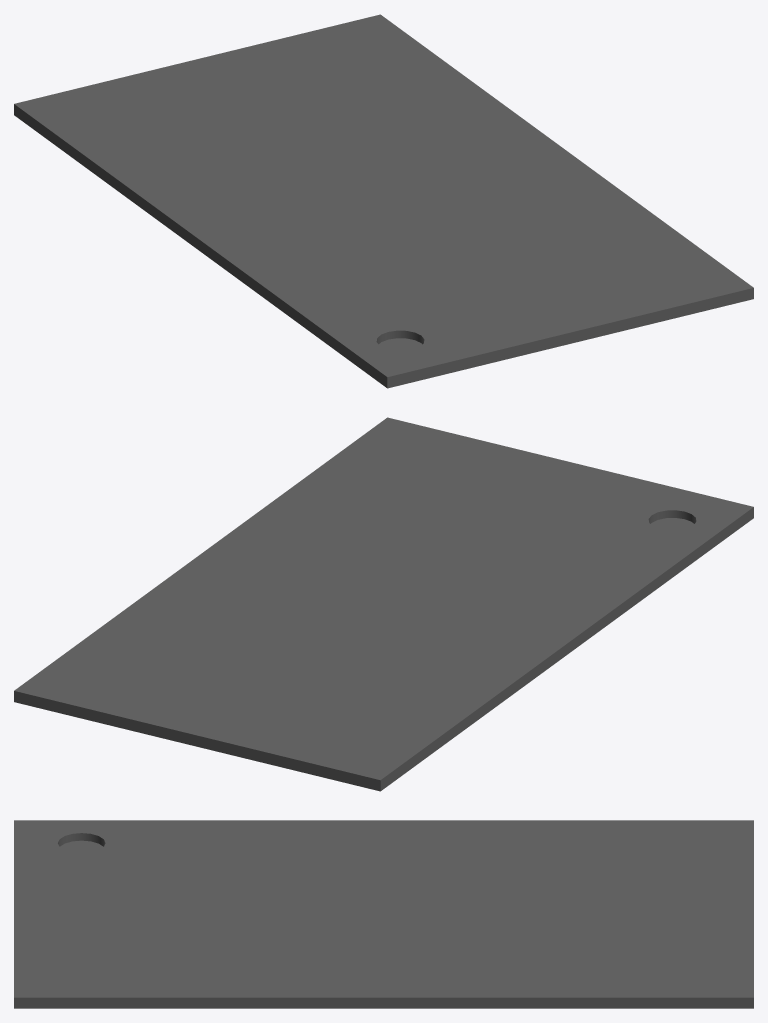
Rendered from floor_7.fbx.
3 renders of one model, top to bottom at view 1: azimuth 30°, elevation 25°; view 2: azimuth 150°, elevation 25°; view 3: azimuth 270°, elevation 25°, orthographic.
Visible parts, largest first — view 1: m7; view 2: m7; view 3: m7.
Part boxes in pixels (bbox=[...]): m7: bbox=[14, 14, 753, 388]; m7: bbox=[14, 417, 753, 791]; m7: bbox=[14, 820, 753, 1008].
Size of the model in its own units: 3400 by 100 by 6000.
1 material, 1 textured.
